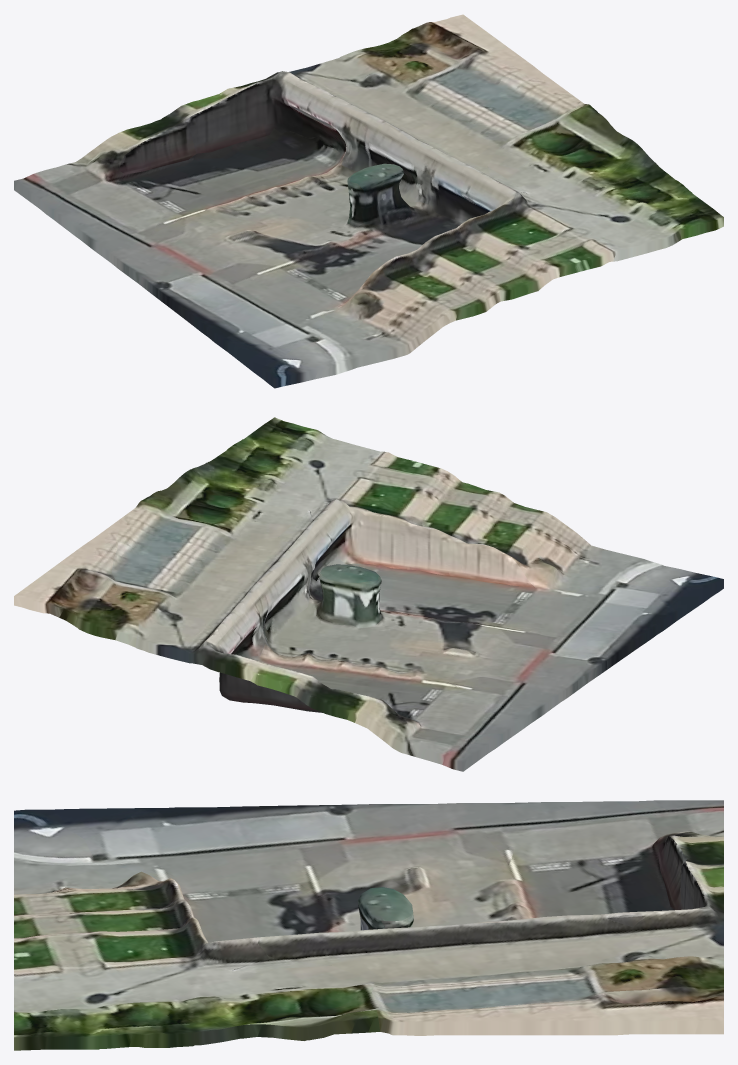
File: z20-167750-405249-h0-yup-uvflip-v3-world.glb
3 views of the same model, one above another, from view 1: azimuth 30°, elevation 25°; view 2: azimuth 150°, elevation 25°; view 3: azimuth 270°, elevation 25° (orthographic). The views are drawn at different scales.
Bounding box in the file's own units: 30.16 × 4.96 × 30.32.
Materials: 1 (1 with a texture image).
